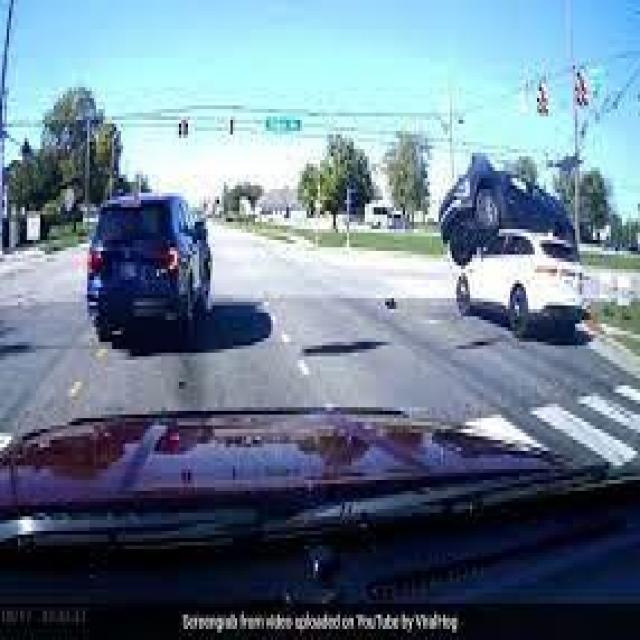multiple_accident: (390, 115, 640, 376)
